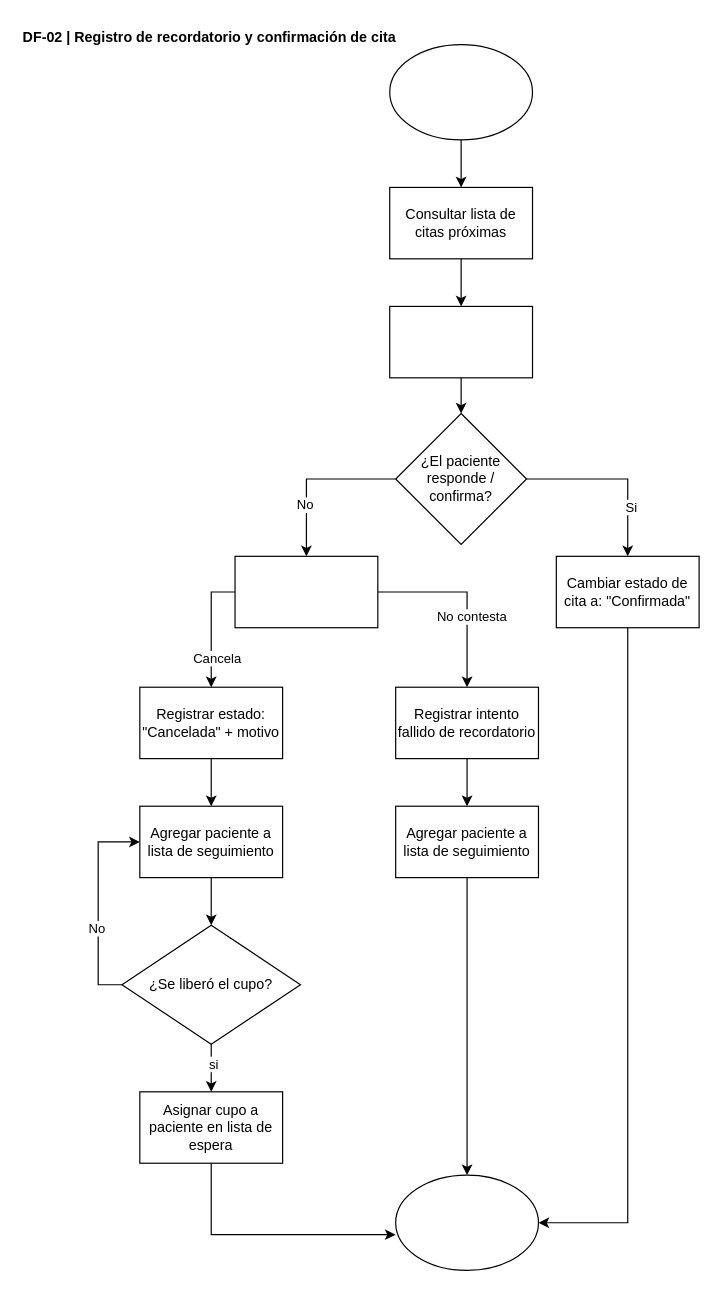
This 720x1291 diagram has some shape labels left out. Each missing label, with the centre of its shape:
Contactar al paciente: pixel 461 341
FIN: pixel 466 1222
INICIO: pixel 461 91
¿El paciente cancela o no contesta?: pixel 306 591
